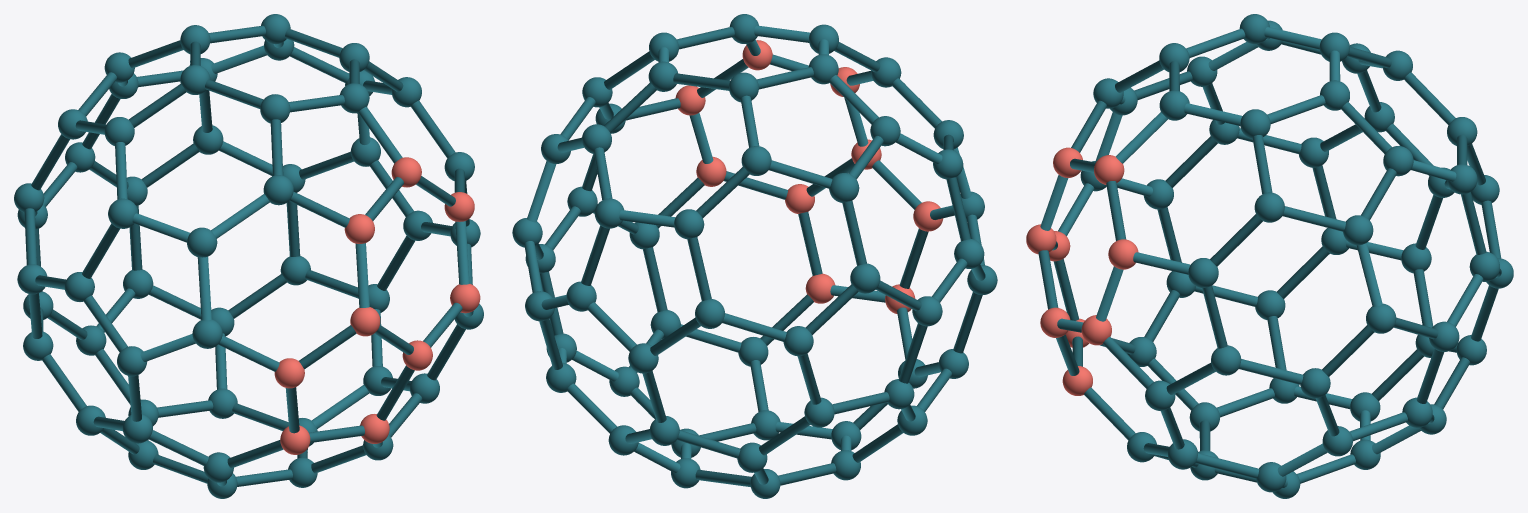
3 renders of one model, left to right at view 1: azimuth 30°, elevation 25°; view 2: azimuth 150°, elevation 25°; view 3: azimuth 270°, elevation 25°, orthographic.
Parts seen in each view (by area): view 1: carbon-bonds, carbon-atoms, soccer-pattern; view 2: carbon-bonds, carbon-atoms, soccer-pattern; view 3: carbon-bonds, carbon-atoms, soccer-pattern.
Part boxes in pixels (bbox=[...]): carbon-bonds: bbox=[24, 25, 473, 486]; carbon-atoms: bbox=[14, 14, 483, 498]; soccer-pattern: bbox=[274, 157, 480, 454]; carbon-bonds: bbox=[524, 25, 985, 486]; carbon-atoms: bbox=[512, 14, 997, 498]; soccer-pattern: bbox=[675, 40, 943, 314]; carbon-bonds: bbox=[1038, 27, 1501, 487]; carbon-atoms: bbox=[1080, 14, 1513, 498]; soccer-pattern: bbox=[1026, 147, 1138, 395].
Bounding box in the file's own units: 0.0732 × 0.0713 × 0.0743.
